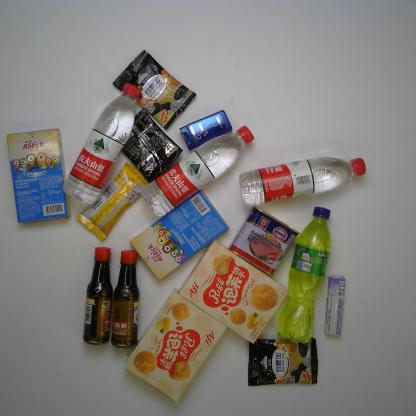Candy: (323, 274, 346, 336)
Canned Food: (229, 205, 300, 276)
Chocolate: (76, 162, 150, 242)
Dessert: (122, 288, 228, 404), (178, 239, 288, 346), (129, 189, 230, 281), (7, 127, 72, 224)
Drink: (141, 125, 254, 216), (62, 82, 142, 205), (276, 206, 332, 344), (238, 156, 367, 206)
Instant Drink: (112, 49, 198, 129), (120, 108, 184, 184), (248, 337, 318, 386)
Personal Hygiene: (180, 110, 233, 150)
Seasoner: (81, 247, 114, 346), (110, 250, 141, 348)
